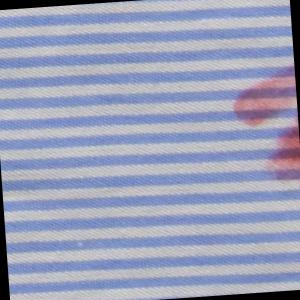Stain: (231, 60, 300, 189)
